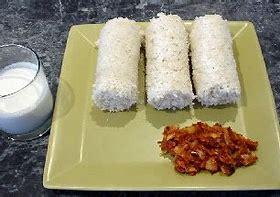Pittu: (86, 14, 264, 120)
